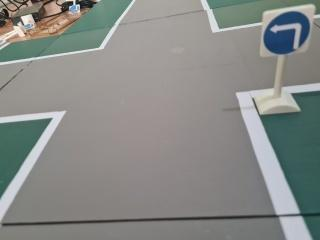left: (255, 1, 319, 62)
